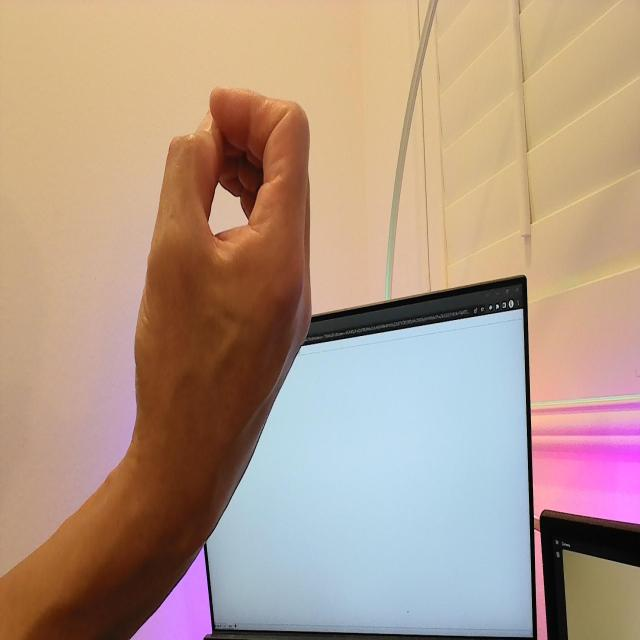O: (129, 75, 315, 457)
